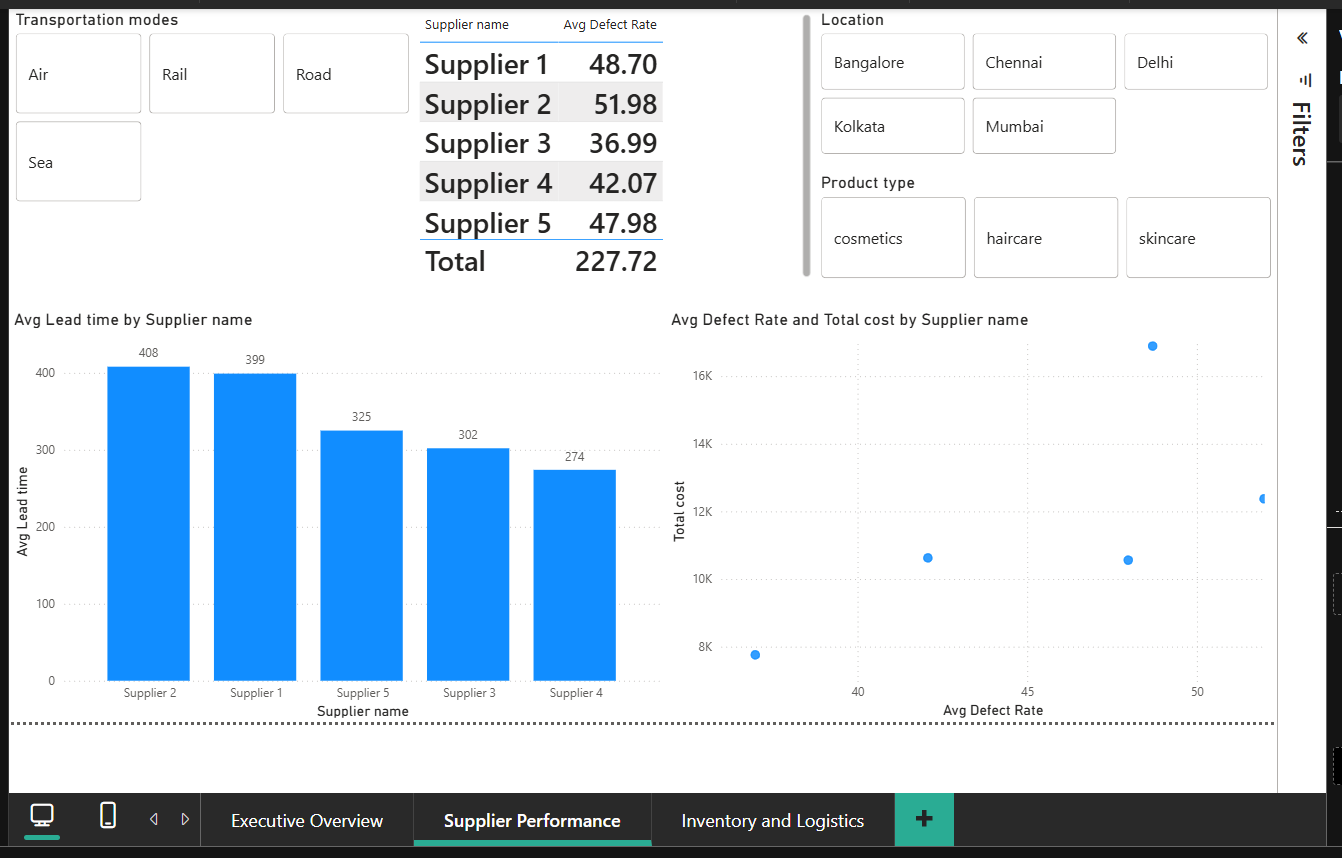

The dashboard page shown, as its layout file describes it:
{"tool":"powerbi","page":{"name":"Supplier Performance","canvas":[1280,720],"ordinal":1},"visuals":[{"type":"clusteredColumnChart","fields":{"Category":["Dim_Supplier.Supplier name"],"Y":["fact_supplychain.Avg Lead time"]},"box":[0,302.8,663.2,417.9],"z":0},{"type":"scatterChart","fields":{"X":["fact_supplychain.Avg Defect Rate"],"Y":["fact_supplychain.Total cost"],"Category":["Dim_Supplier.Supplier name"]},"box":[663.3,302.4,616.1,417.6],"z":1000},{"type":"tableEx","fields":{"Values":["Dim_Supplier.Supplier name","fact_supplychain.Avg Defect Rate"]},"box":[408.8,0,405.8,277.1],"z":2000},{"type":"advancedSlicerVisual","fields":{"Values":["fact_supplychain.Transportation modes"]},"box":[1.5,0,407.3,199.9],"z":2001},{"type":"advancedSlicerVisual","fields":{"Values":["fact_supplychain.Location"]},"box":[814.6,0,463.3,151.4],"z":2002},{"type":"advancedSlicerVisual","fields":{"Values":["fact_supplychain.Product type"]},"box":[814.6,165,464.9,112.1],"z":2003}]}

Visuals, with their boxes on the page's 1280x720 design canvas (x1, y1, x2, y2). These are canvas units, not pixel positions in the 1342x858 screenshot, which may show the page scaled, cropped or inside an application window:
clusteredColumnChart - Dim_Supplier.Supplier name x fact_supplychain.Avg Lead time: (0,303,663,721)
scatterChart - fact_supplychain.Avg Defect Rate x fact_supplychain.Total cost: (663,302,1279,720)
tableEx - Dim_Supplier.Supplier name x fact_supplychain.Avg Defect Rate: (409,0,815,277)
advancedSlicerVisual - fact_supplychain.Transportation modes: (2,0,409,200)
advancedSlicerVisual - fact_supplychain.Location: (815,0,1278,151)
advancedSlicerVisual - fact_supplychain.Product type: (815,165,1280,277)
